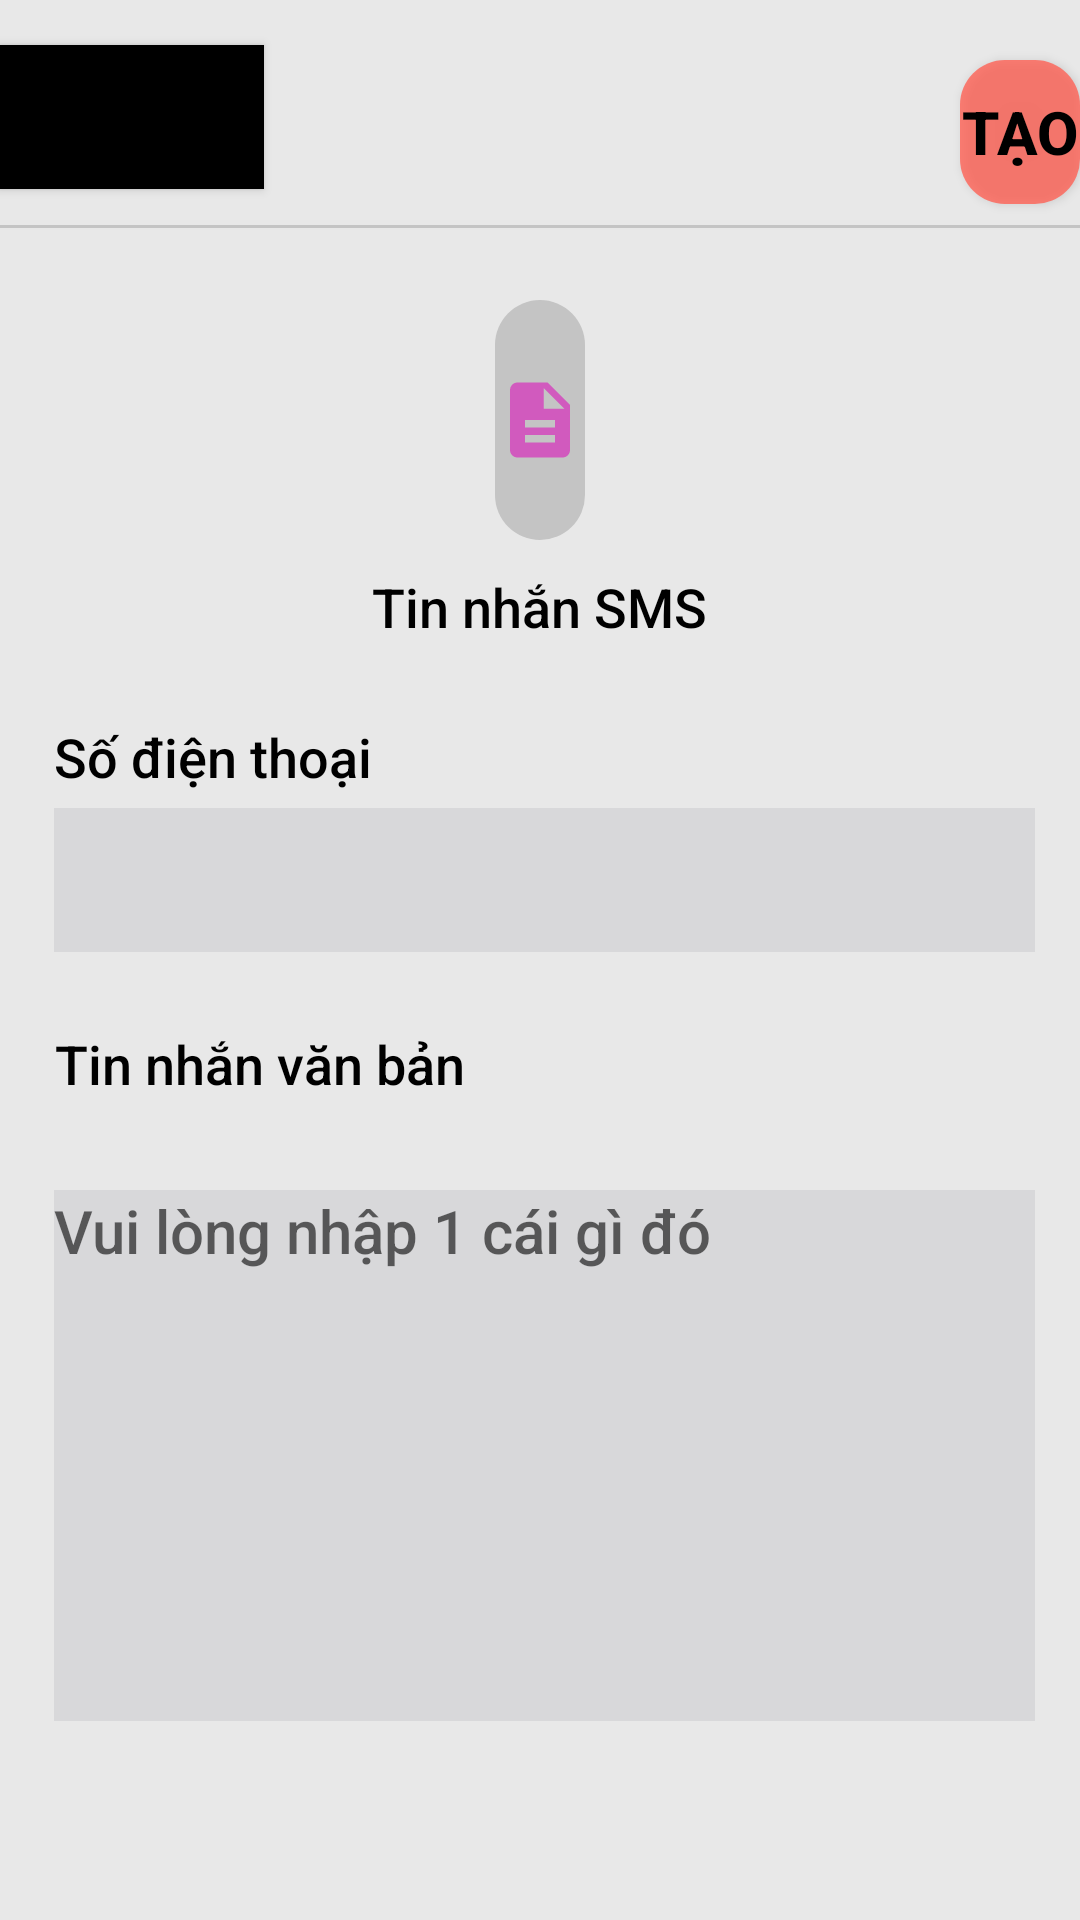

Locate icon controls on the screen. Image size 1080w x 1920h, boxes as (x1, y1, x2, y2).
text: (510, 382, 570, 458)
